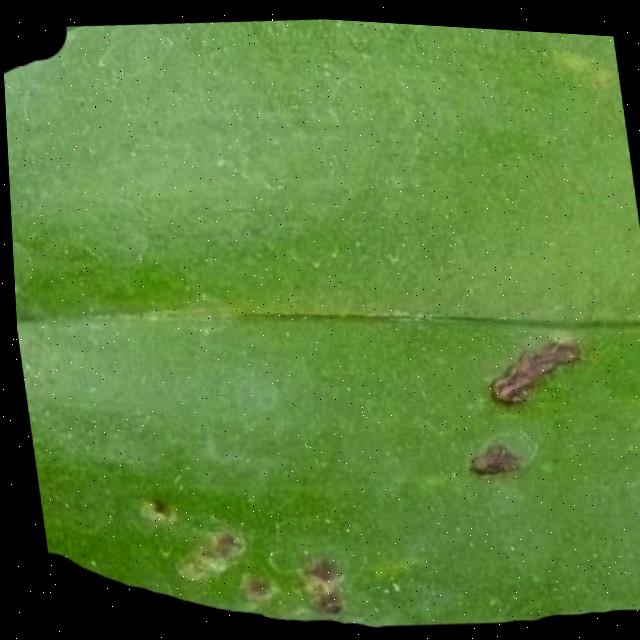mite: (102, 322, 620, 619), (226, 547, 343, 616), (161, 526, 245, 583), (1, 26, 73, 82), (290, 553, 341, 614), (123, 486, 178, 531), (200, 528, 239, 560), (130, 494, 169, 523), (295, 553, 334, 582), (232, 570, 268, 598), (305, 585, 338, 613)
sunburn: (475, 328, 590, 405)
